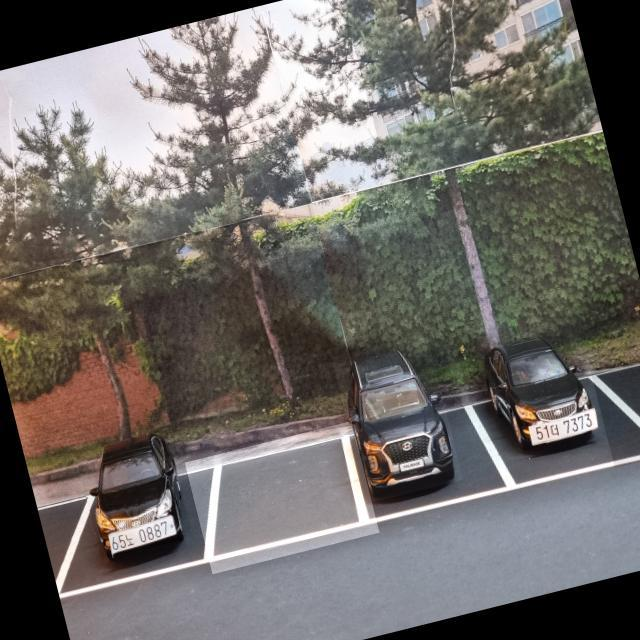empty: (184, 421, 378, 574), (590, 352, 640, 467)
occupied: (331, 333, 463, 503), (473, 322, 604, 462), (74, 430, 192, 560)
